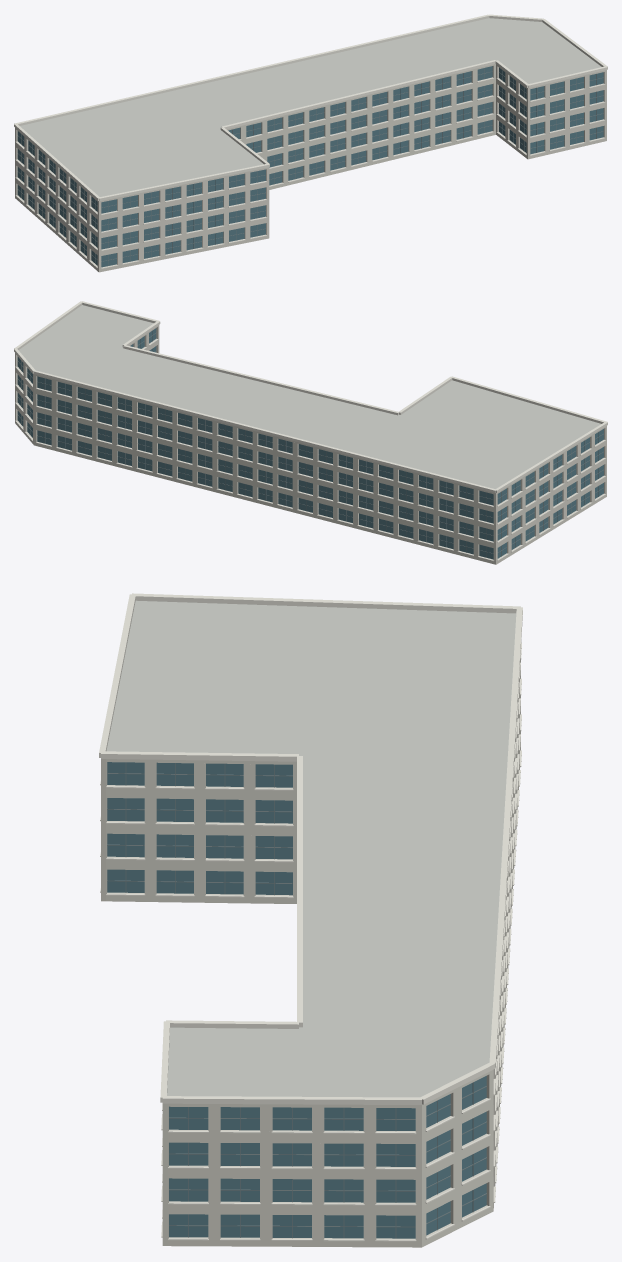
3 views of the same model, one above another, from view 1: azimuth 30°, elevation 25°; view 2: azimuth 150°, elevation 25°; view 3: azimuth 270°, elevation 25° (orthographic). The views are drawn at different scales.
Visible parts, largest first — view 1: roof, wall, glass, trim, metal; view 2: roof, wall, glass, trim, metal; view 3: roof, wall, glass, trim, metal.
Boxes of the visible parts, x1,y1,x2,y2 form: roof: (20, 18, 601, 196); wall: (15, 64, 606, 272); glass: (17, 66, 603, 267); trim: (14, 14, 607, 268); metal: (17, 68, 603, 265); roof: (18, 305, 600, 488); wall: (15, 325, 606, 564); glass: (17, 328, 603, 559); trim: (14, 301, 607, 561); metal: (18, 331, 603, 557); roof: (106, 600, 516, 1097); wall: (101, 659, 520, 1247); glass: (107, 762, 486, 1238); trim: (99, 593, 522, 1241); metal: (107, 762, 486, 1238).
Bounding box in the file's own units: 95.54 × 13.04 × 33.79.
